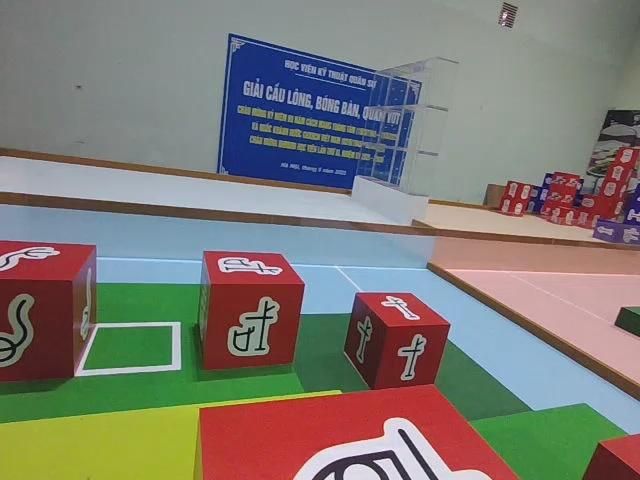R2 Real: (0, 239, 98, 379), (197, 251, 306, 371), (343, 294, 451, 392)
